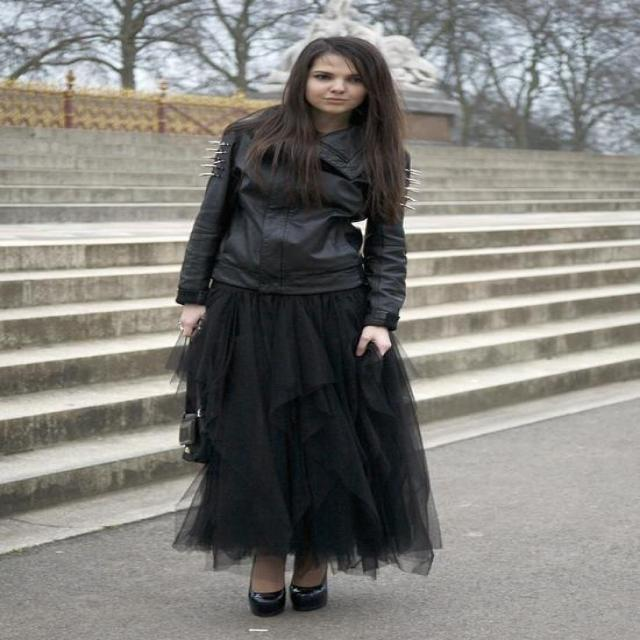skirt: (179, 276, 434, 575)
sweater: (174, 104, 412, 327)
